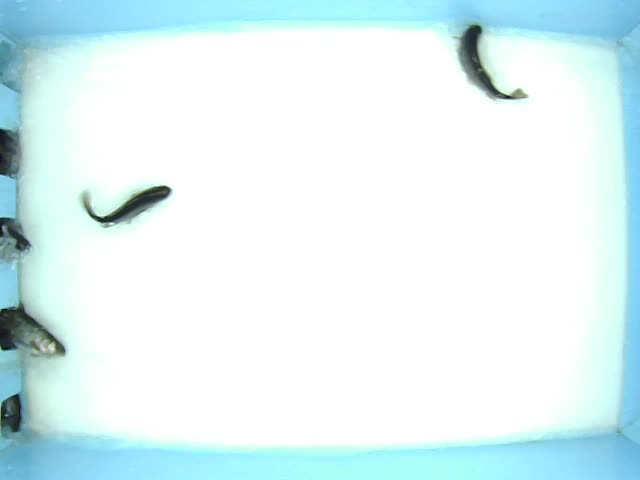fish: (452, 20, 529, 111), (82, 181, 198, 230)
